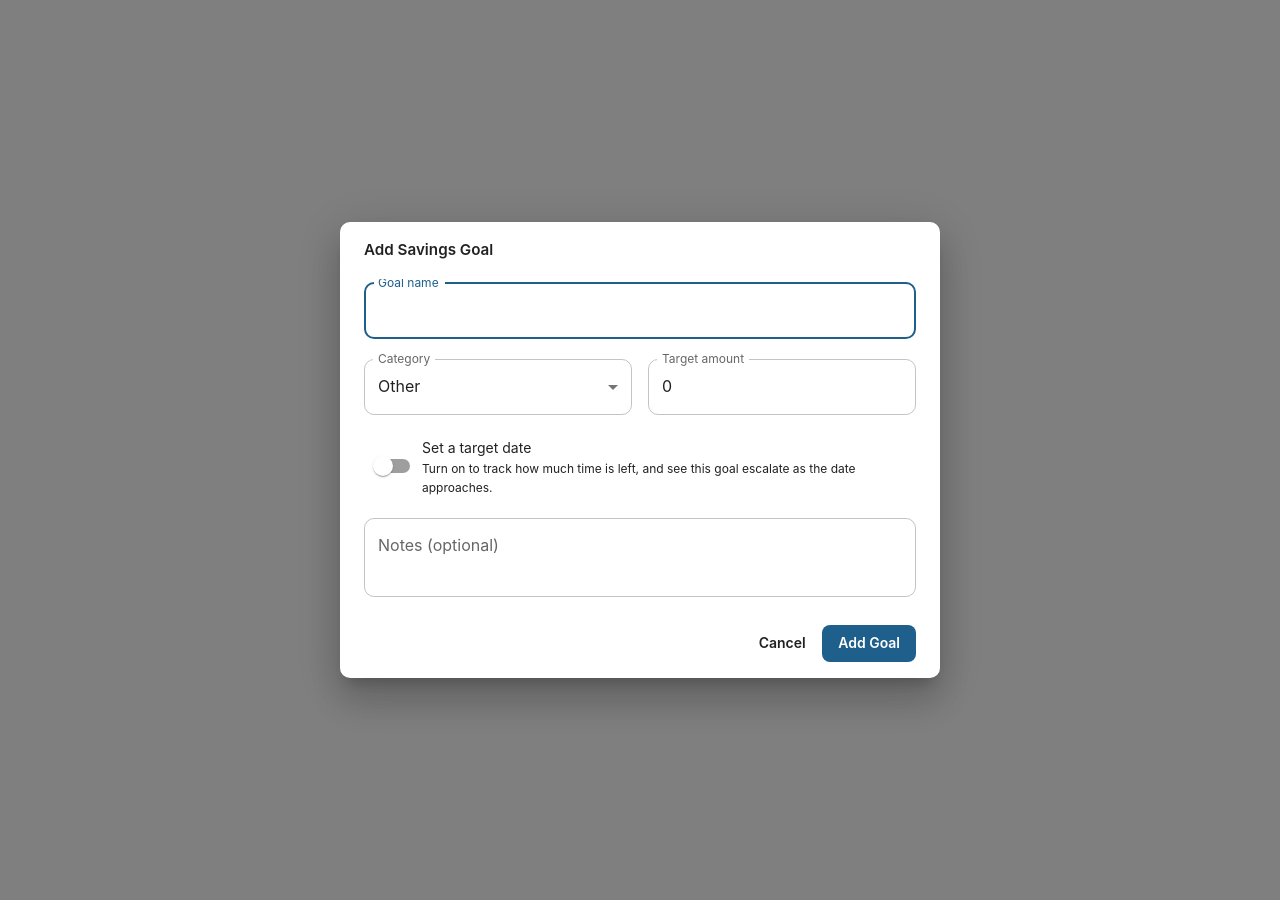
Test case: GoalFormDialog › does not show the target date field until "Set a target date" is on
Click the switch labelled "Set a target date" at (640, 466), box [364,434,916,498]
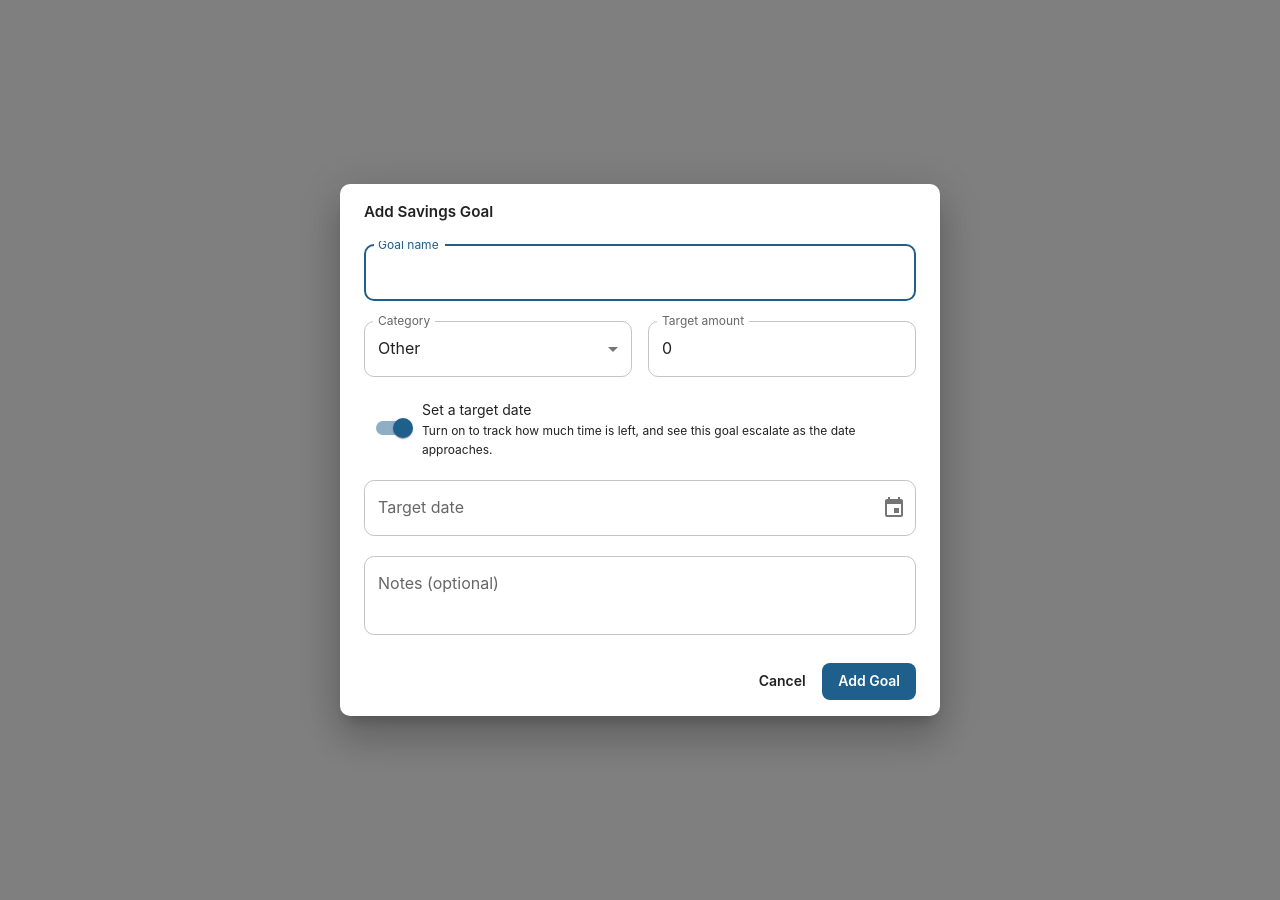
expect the 7th element named "Target date" is shown: met, box [364,480,916,536]
